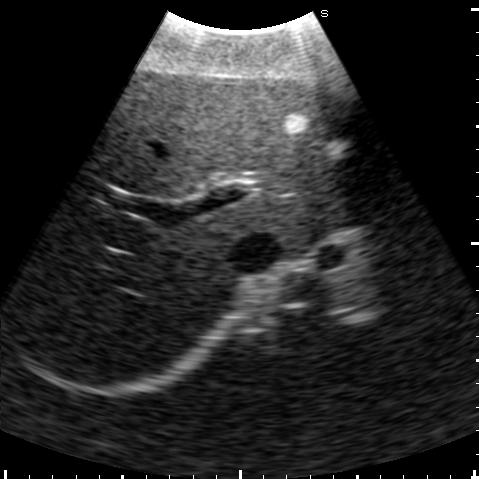IVC: (228, 236, 281, 270)
S1: (215, 198, 310, 249)
S2: (281, 185, 416, 233)
S3: (224, 80, 411, 197)
S4: (89, 71, 306, 197)
Tumor: (279, 112, 311, 134), (323, 141, 346, 157)
